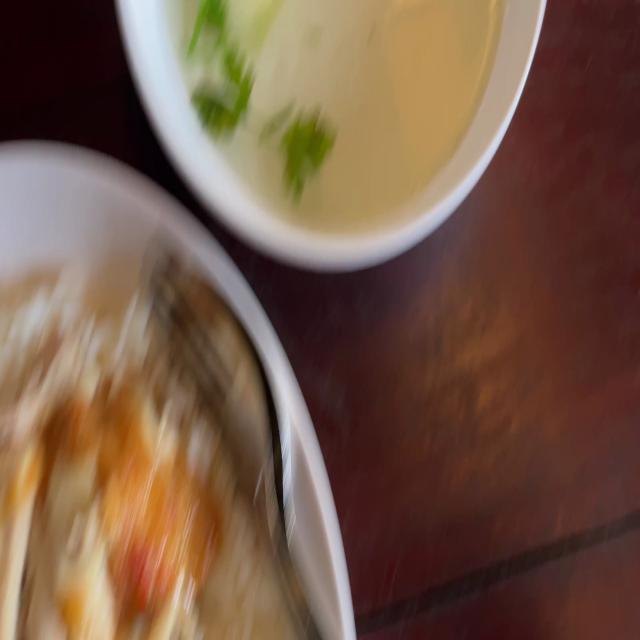chicken_rice: (0, 371, 188, 638)
